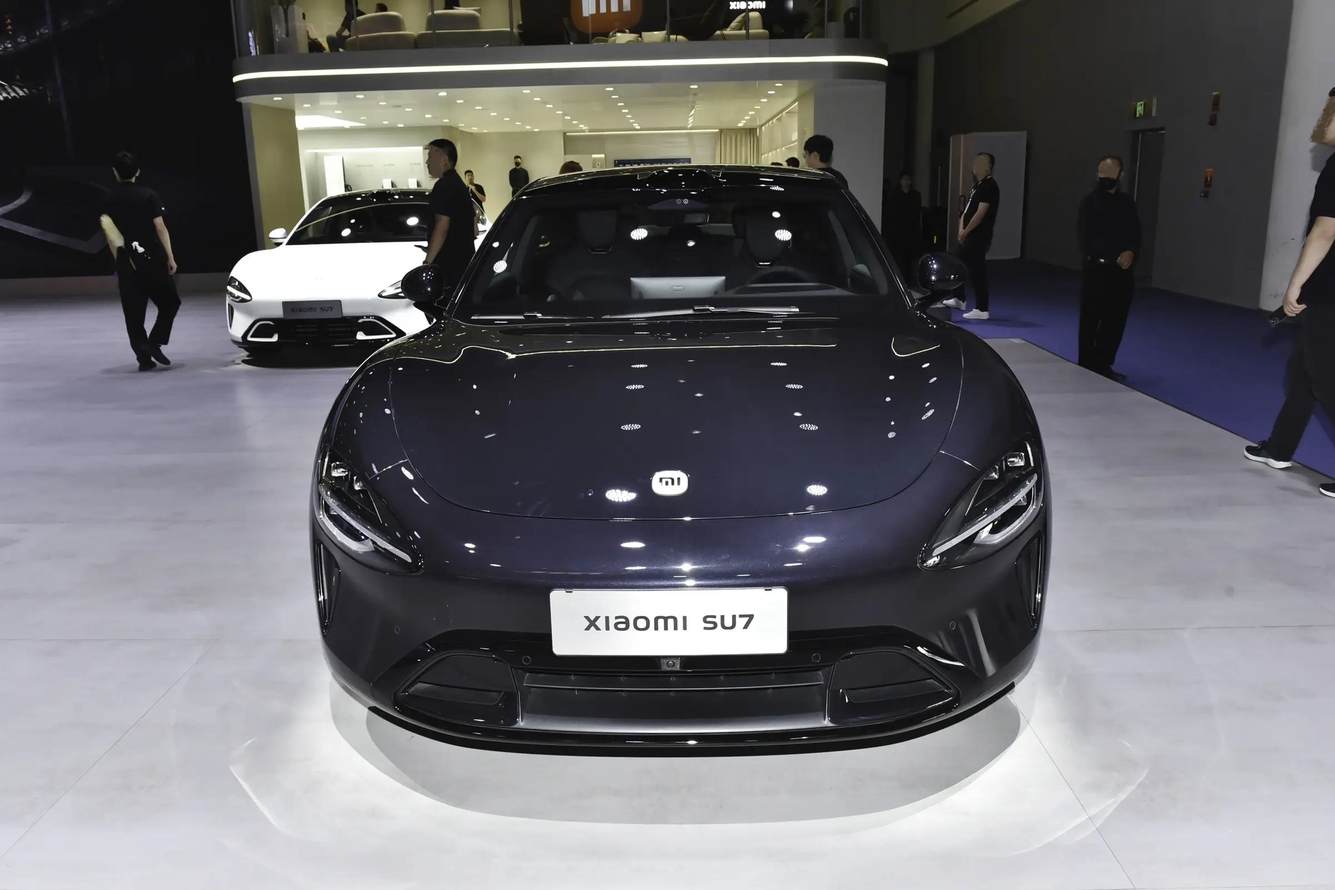XIAOMI: (651, 471, 689, 496)
